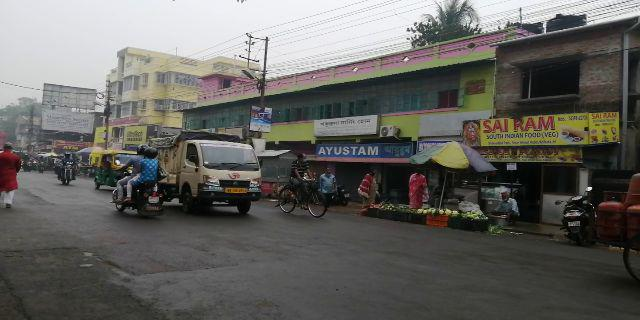Cycle: (275, 151, 332, 222)
Minitruck: (156, 135, 264, 207)
Motorbike: (110, 153, 165, 219)
